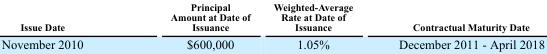table: (0, 0, 543, 51)
table column: (375, 0, 543, 51), (126, 0, 261, 51), (0, 0, 126, 51), (261, 0, 375, 51)
table column header: (0, 0, 543, 34)
table row: (0, 0, 543, 34), (0, 34, 543, 51)
